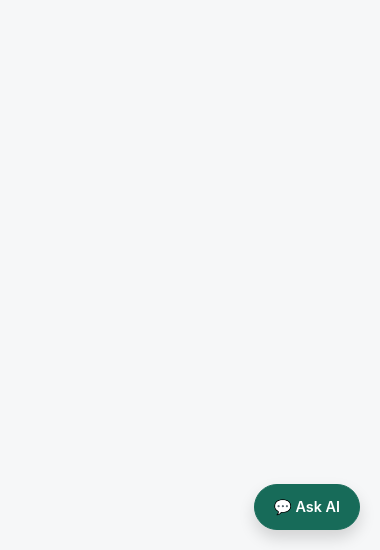
Scenario: ChatAssistant › shows 'typing…' and blocks new messages while waiting for the answer
This screenshot has width=380, height=550.
Later steps or results of the test are not shown.
Click the button "💬 Ask AI" at (307, 507), box [254,484,360,530]
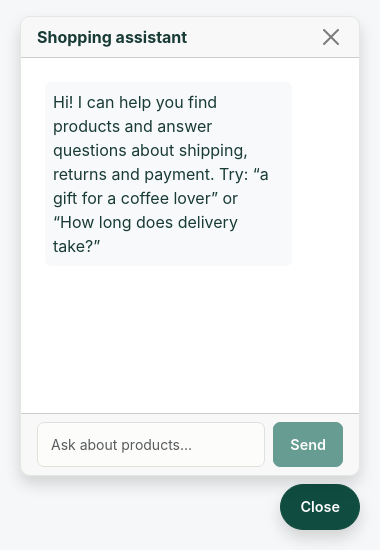
Type "Hi" into the field named "Message the shopping assistant" at (151, 445), box [37,422,265,467]
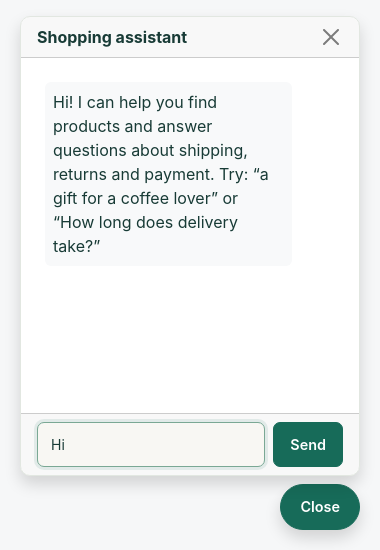
Click the button "Send" at (308, 445), box [273,422,343,467]
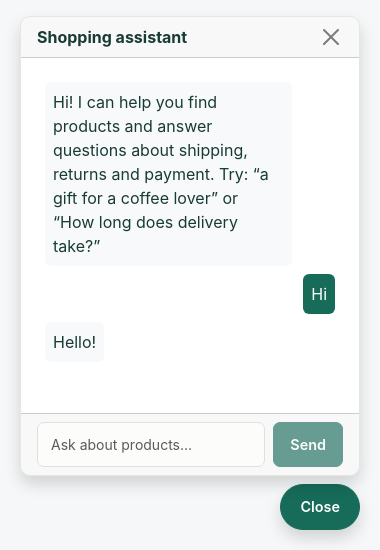
expect the text "Hello!" is shown: met, box [45,322,104,362]
